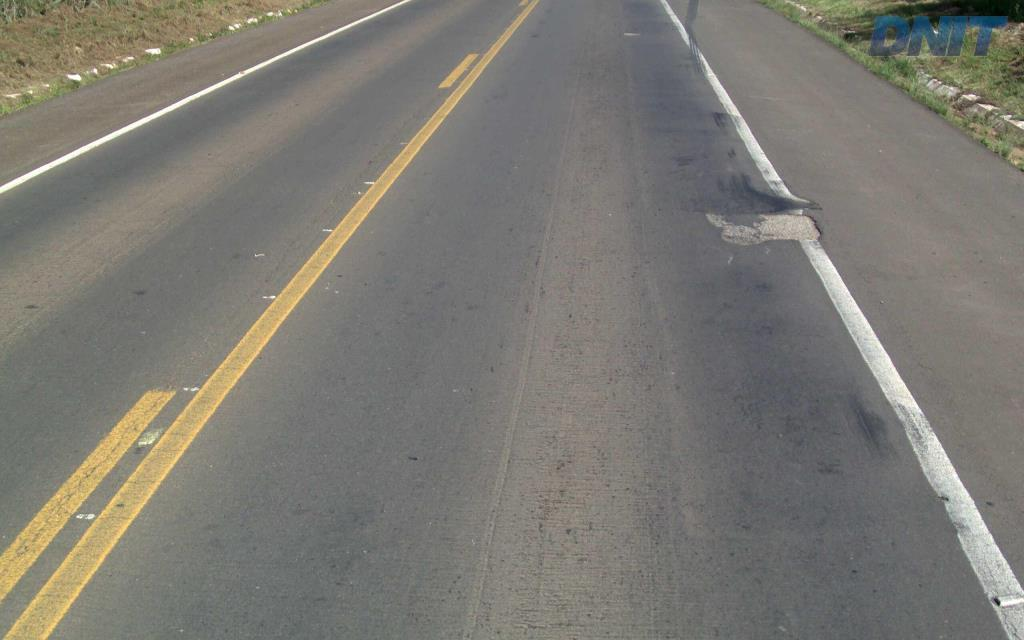pothole: (699, 200, 824, 250)
